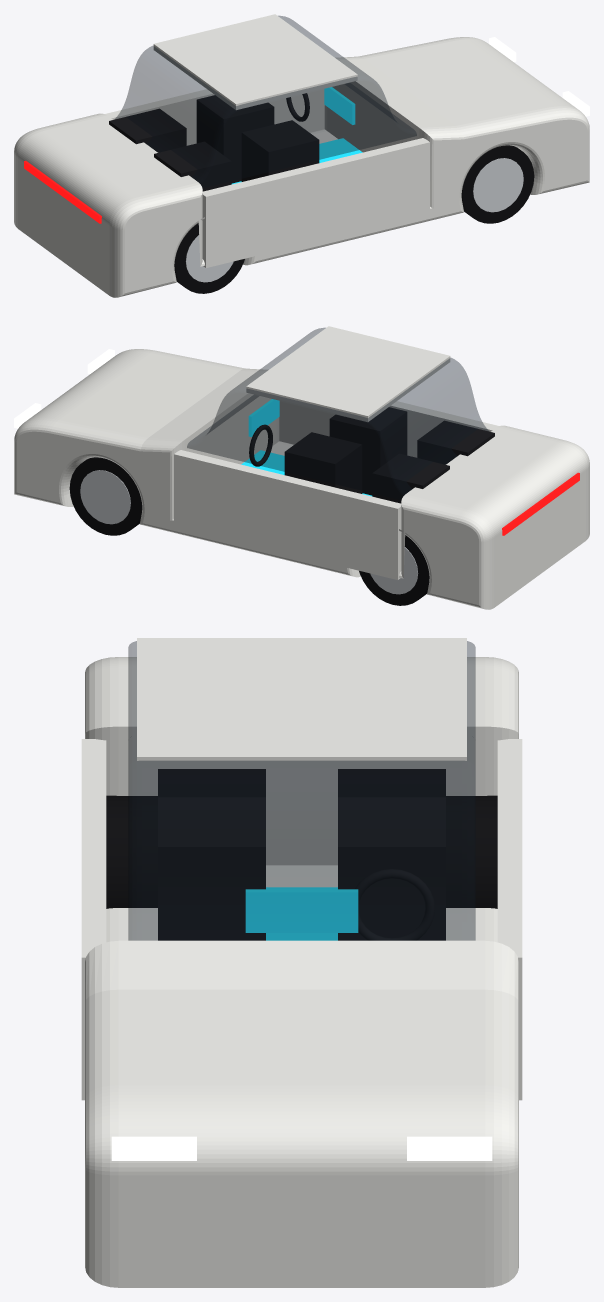
3 renders of one model, top to bottom at view 1: azimuth 30°, elevation 25°; view 2: azimuth 150°, elevation 25°; view 3: azimuth 270°, elevation 25°, orthographic. The views are drawn at different scales.
Visible parts, largest first — view 1: Exterior_Body_Shell, Cabin_Window_Glass, Door_Right_Body, Roof_Body_Panel, Interior_Seat_Passenger, Interior_Seat_Driver, Door_Left_Body, Interior_Seat_RearR, Wheel_Tire_FL, Interior_Seat_RearL, Wheel_Rim_FL, Wheel_Tire_RL (+4 smaller); view 2: Exterior_Body_Shell, Cabin_Window_Glass, Door_Left_Body, Roof_Body_Panel, Interior_Seat_Driver, Interior_Seat_Passenger, Door_Right_Body, Interior_Seat_RearL, Wheel_Tire_FR, Interior_Seat_RearR, Wheel_Rim_FR, Wheel_Tire_RR (+5 smaller); view 3: Exterior_Body_Shell, Cabin_Window_Glass, Roof_Body_Panel, Interior_Seat_Passenger, Interior_Seat_Driver, Door_Left_Body, Door_Right_Body, Wheel_Tire_RL, Wheel_Tire_RR, Center_Display_Screen_HUD, Interior_Seat_RearL, Interior_Seat_RearR (+3 smaller).
Boxes of the visible parts, <box> form: Exterior_Body_Shell: <box>14,37,589,297</box>; Cabin_Window_Glass: <box>115,16,416,187</box>; Door_Right_Body: <box>202,138,429,267</box>; Roof_Body_Panel: <box>153,14,357,109</box>; Interior_Seat_Passenger: <box>241,120,319,181</box>; Interior_Seat_Driver: <box>196,95,274,183</box>; Door_Left_Body: <box>105,89,324,145</box>; Interior_Seat_RearR: <box>154,141,231,191</box>; Wheel_Tire_FL: <box>461,145,534,223</box>; Interior_Seat_RearL: <box>109,108,186,152</box>; Wheel_Rim_FL: <box>473,158,523,212</box>; Wheel_Tire_RL: <box>174,223,244,293</box>; Exterior_Body_Shell: <box>14,349,589,609</box>; Cabin_Window_Glass: <box>187,328,488,499</box>; Door_Left_Body: <box>174,450,401,579</box>; Roof_Body_Panel: <box>246,326,450,421</box>; Interior_Seat_Driver: <box>284,432,362,493</box>; Interior_Seat_Passenger: <box>329,407,407,495</box>; Door_Right_Body: <box>279,401,498,457</box>; Interior_Seat_RearL: <box>372,453,449,503</box>; Wheel_Tire_FR: <box>69,457,142,535</box>; Interior_Seat_RearR: <box>417,420,494,464</box>; Wheel_Rim_FR: <box>80,470,130,524</box>; Wheel_Tire_RR: <box>359,535,429,605</box>; Exterior_Body_Shell: <box>85,657,518,1287</box>; Cabin_Window_Glass: <box>128,641,475,940</box>; Roof_Body_Panel: <box>137,638,466,768</box>; Interior_Seat_Passenger: <box>158,797,265,940</box>; Interior_Seat_Driver: <box>338,797,445,940</box>; Door_Left_Body: <box>497,739,522,1100</box>; Door_Right_Body: <box>81,739,106,1100</box>; Wheel_Tire_RL: <box>106,795,157,908</box>; Wheel_Tire_RR: <box>446,795,497,908</box>; Center_Display_Screen_HUD: <box>245,889,358,932</box>; Interior_Seat_RearL: <box>338,769,445,797</box>; Interior_Seat_RearR: <box>158,769,265,797</box>.
Size of the model in its own units: 4.93 by 1.71 by 1.96.
